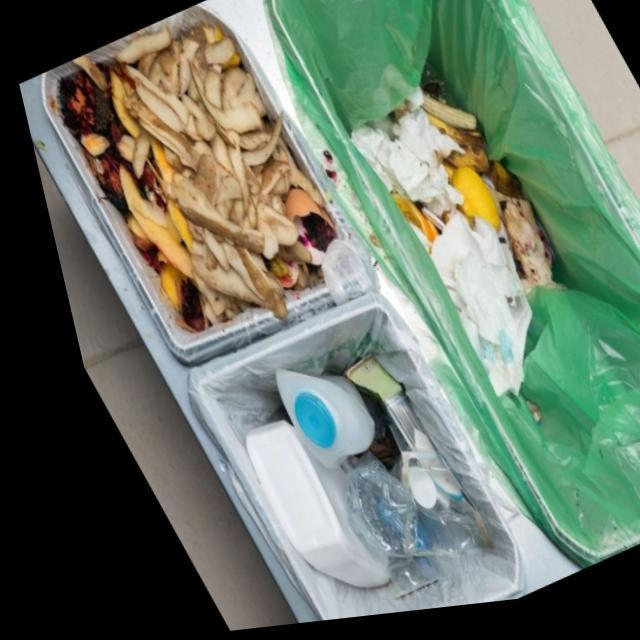Disposable: (327, 360, 404, 455)
Garbage: (53, 26, 323, 334), (343, 96, 537, 405), (224, 360, 463, 593)
Plastic_Container: (225, 425, 359, 592), (257, 372, 353, 473)
Plastic_bottle: (323, 458, 391, 563)
